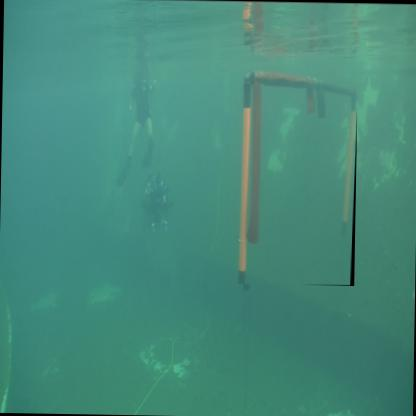gate: (238, 63, 360, 288)
